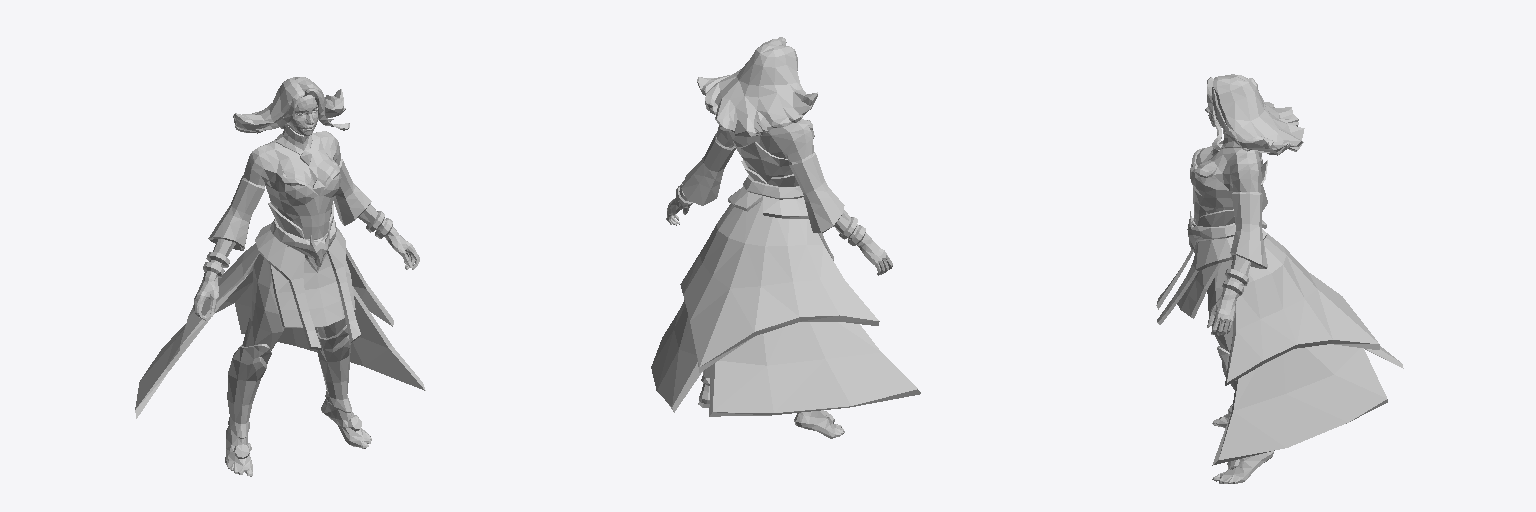
File: lina_statue_000002.obj
3 views of the same model, side by side, from view 1: azimuth 30°, elevation 25°; view 2: azimuth 150°, elevation 25°; view 3: azimuth 270°, elevation 25° (orthographic).
Parts seen in each view (by area): view 1: lina_body.001_lina_body; view 2: lina_body.001_lina_body; view 3: lina_body.001_lina_body.
Part boxes in pixels (bbox=[...]): lina_body.001_lina_body: bbox=[135, 77, 425, 476]; lina_body.001_lina_body: bbox=[651, 37, 920, 438]; lina_body.001_lina_body: bbox=[1156, 74, 1403, 483].
Bounding box in the file's own units: 135 × 179 × 106.